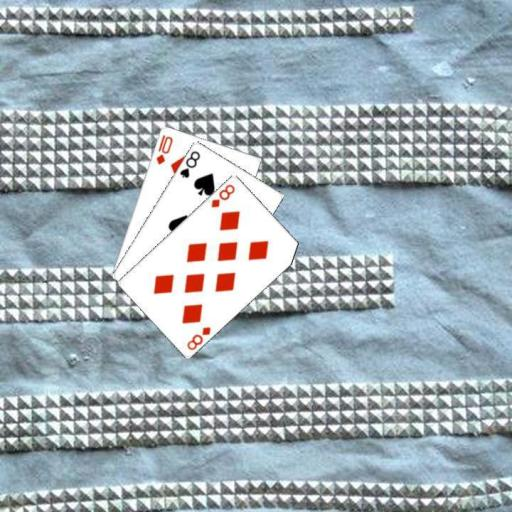card-corner: (176, 147, 202, 179), (208, 181, 236, 209), (183, 324, 212, 351), (153, 132, 174, 166)
